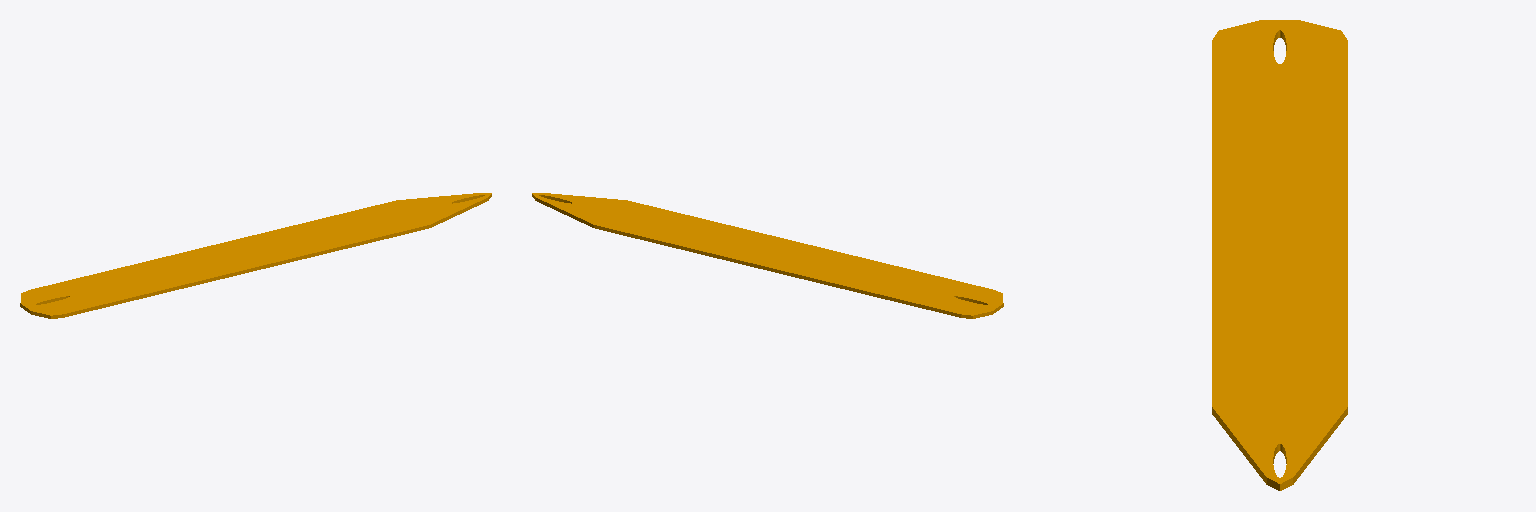
robot.urdf — asv:
<?xml version="1.0"?>
<robot name="asv" xmlns:xacro="http://ros.org/wiki/xacro">

  <link name="asv">
    <visual>
      <!-- <origin rpy="0 0 0" xyz="-0.5 0 0.15"/> -->
      <!-- <origin rpy="0 0 0" xyz="0 0 0.15"/> -->
      <origin rpy="1.5708 0 0" xyz="0 0 0"/>
      <geometry>
        <mesh filename="package://asv_description/urdf/ferry_shape.STL" scale="1 0.1 0.167"/>
      </geometry>
    </visual>
  </link>

  <gazebo reference="world">
    <material>Gazebo/White</material>
    <gravity>true</gravity>
  </gazebo>

</robot>

--- What the picture shows (computed from the rendered views, not written in the file) ---
3 views of the same robot in one strip: view 1: azimuth 30°, elevation 25°; view 2: azimuth 150°, elevation 25°; view 3: azimuth 270°, elevation 25° (orthographic).
Robot: asv — 1 links, 0 joints (none); root link asv; default pose: all joints at 0.
Links seen in each view (by area): view 1: asv; view 2: asv; view 3: asv.
Link boxes in pixels (x1,y1,x2,y2): asv: [20, 193, 491, 318]; asv: [532, 193, 1003, 318]; asv: [1212, 20, 1347, 490].
Bounding box of the posed robot: 137 × 17.03 × 1 m (x, y, z).
1 mesh visuals loaded from 1 distinct referenced files (1 binary STL).
